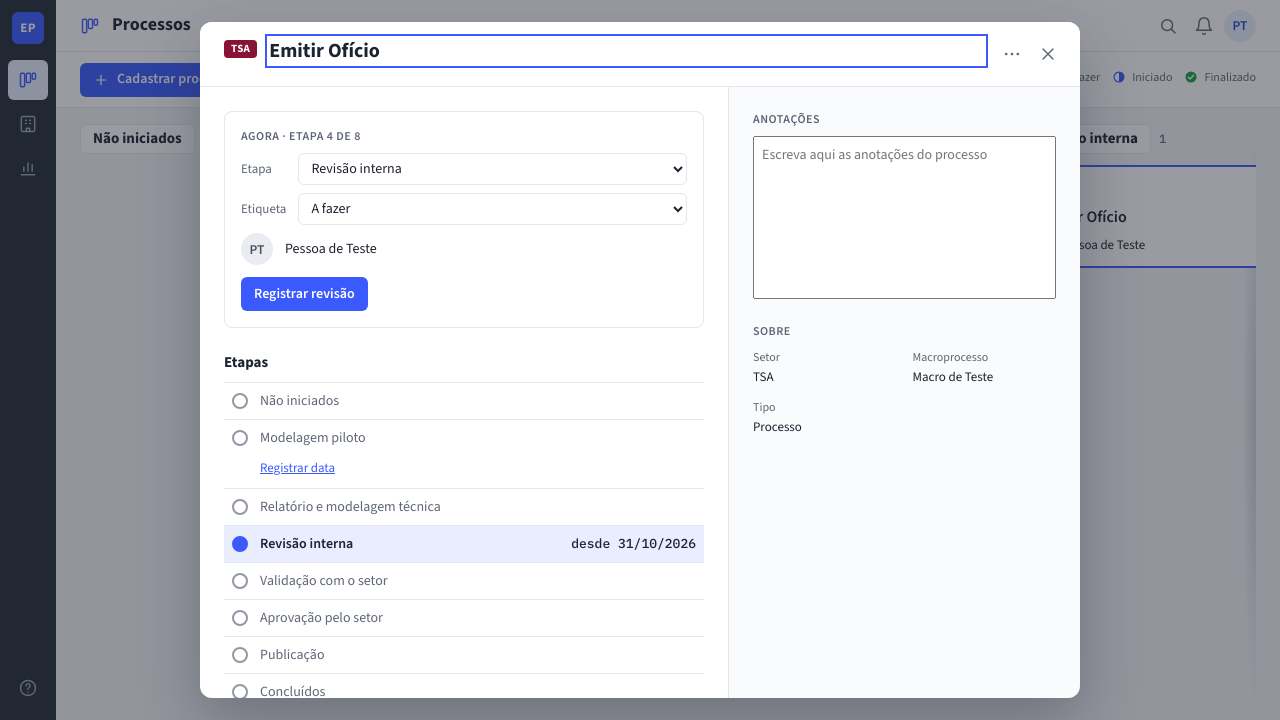
"Corrigida" liga a versão enviada na passagem à anterior e pede o escopo
Click the button "Registrar revisão" at coordinates (304, 294), box [241,277,368,311]
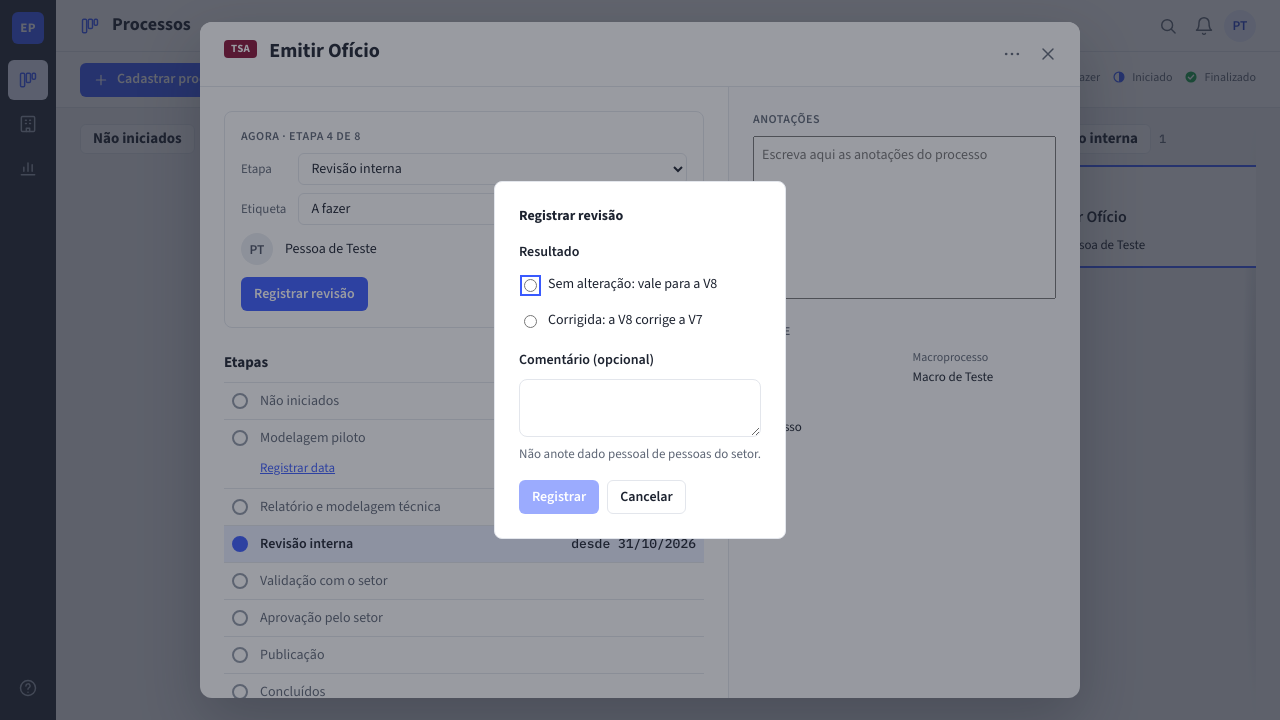
Check: the text "Escopo da correção" is not shown
Click the radio button labelled "Corrigida: a V8 corrige a V7" at coordinates (530, 322), box [524,315,537,328]
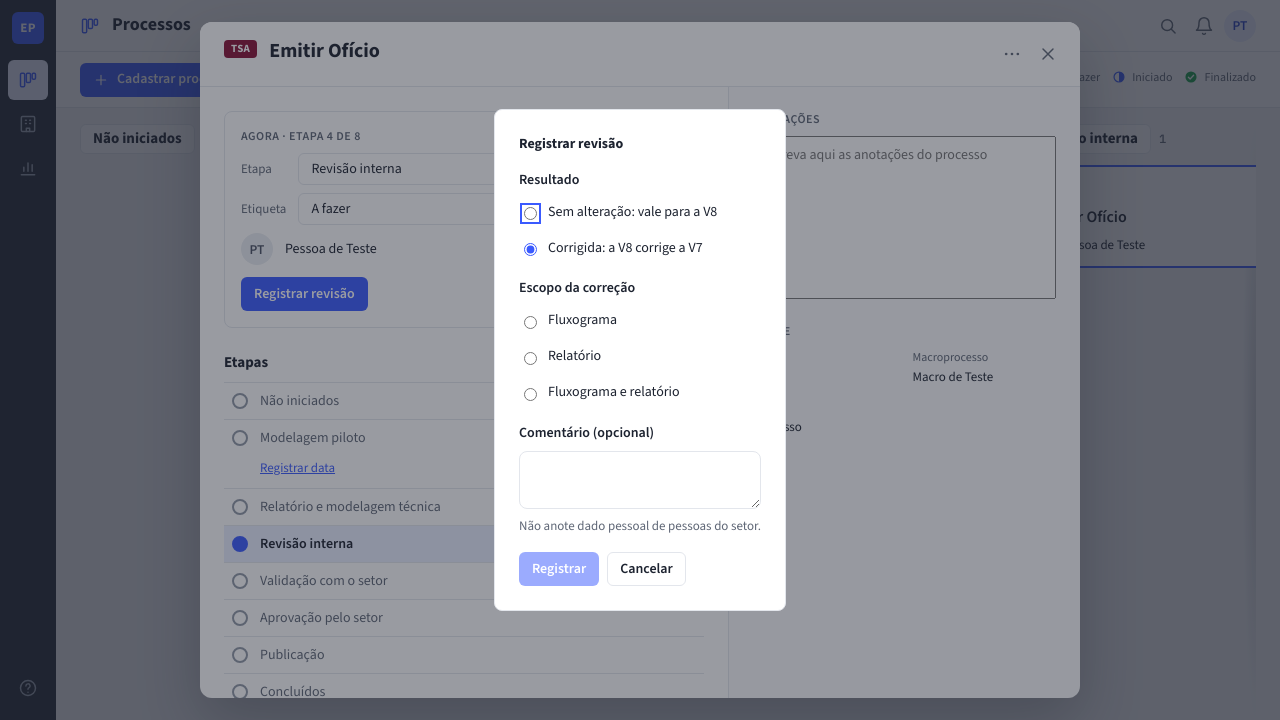
Check: the button "Registrar" is disabled, box [519,552,599,586]
Click the radio button labelled "Fluxograma" at coordinates (530, 322), box [524,316,537,329]
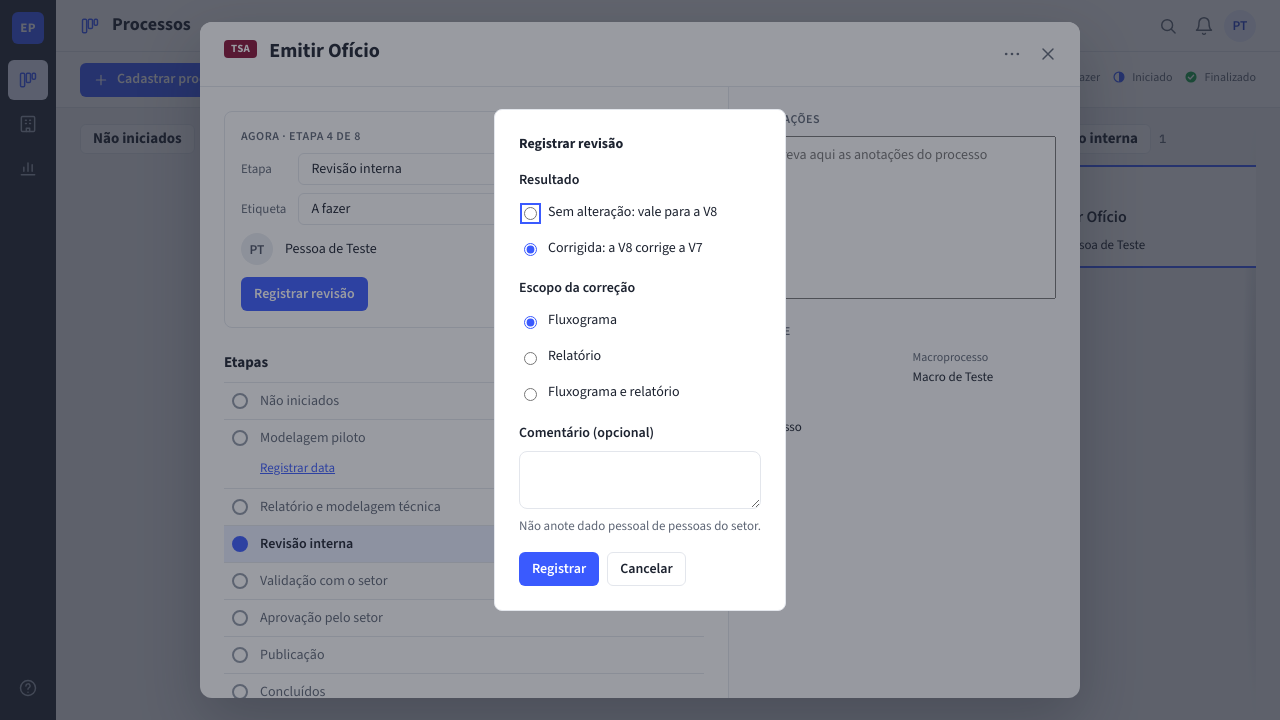
Click the button "Registrar" at coordinates (559, 569), box [519,552,599,586]
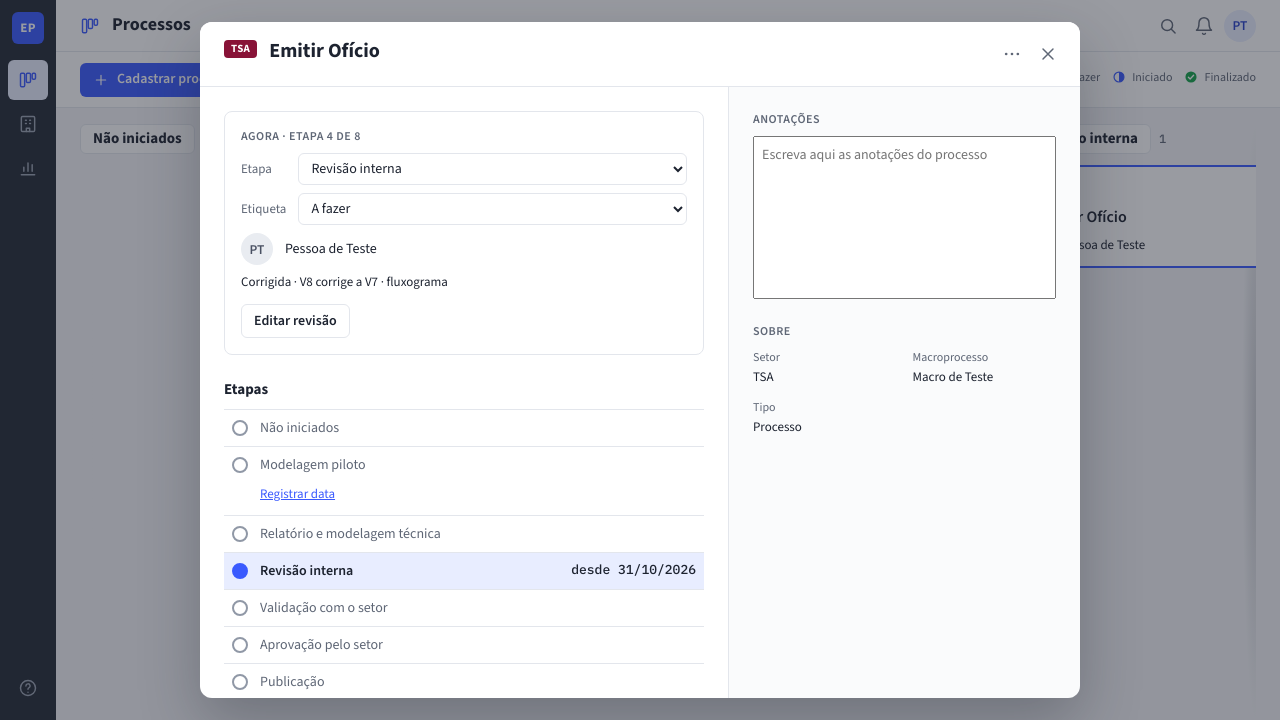
Check: the text "Corrigida · V8 corrige a V7 · fluxograma" is shown, box [241,273,448,291]
